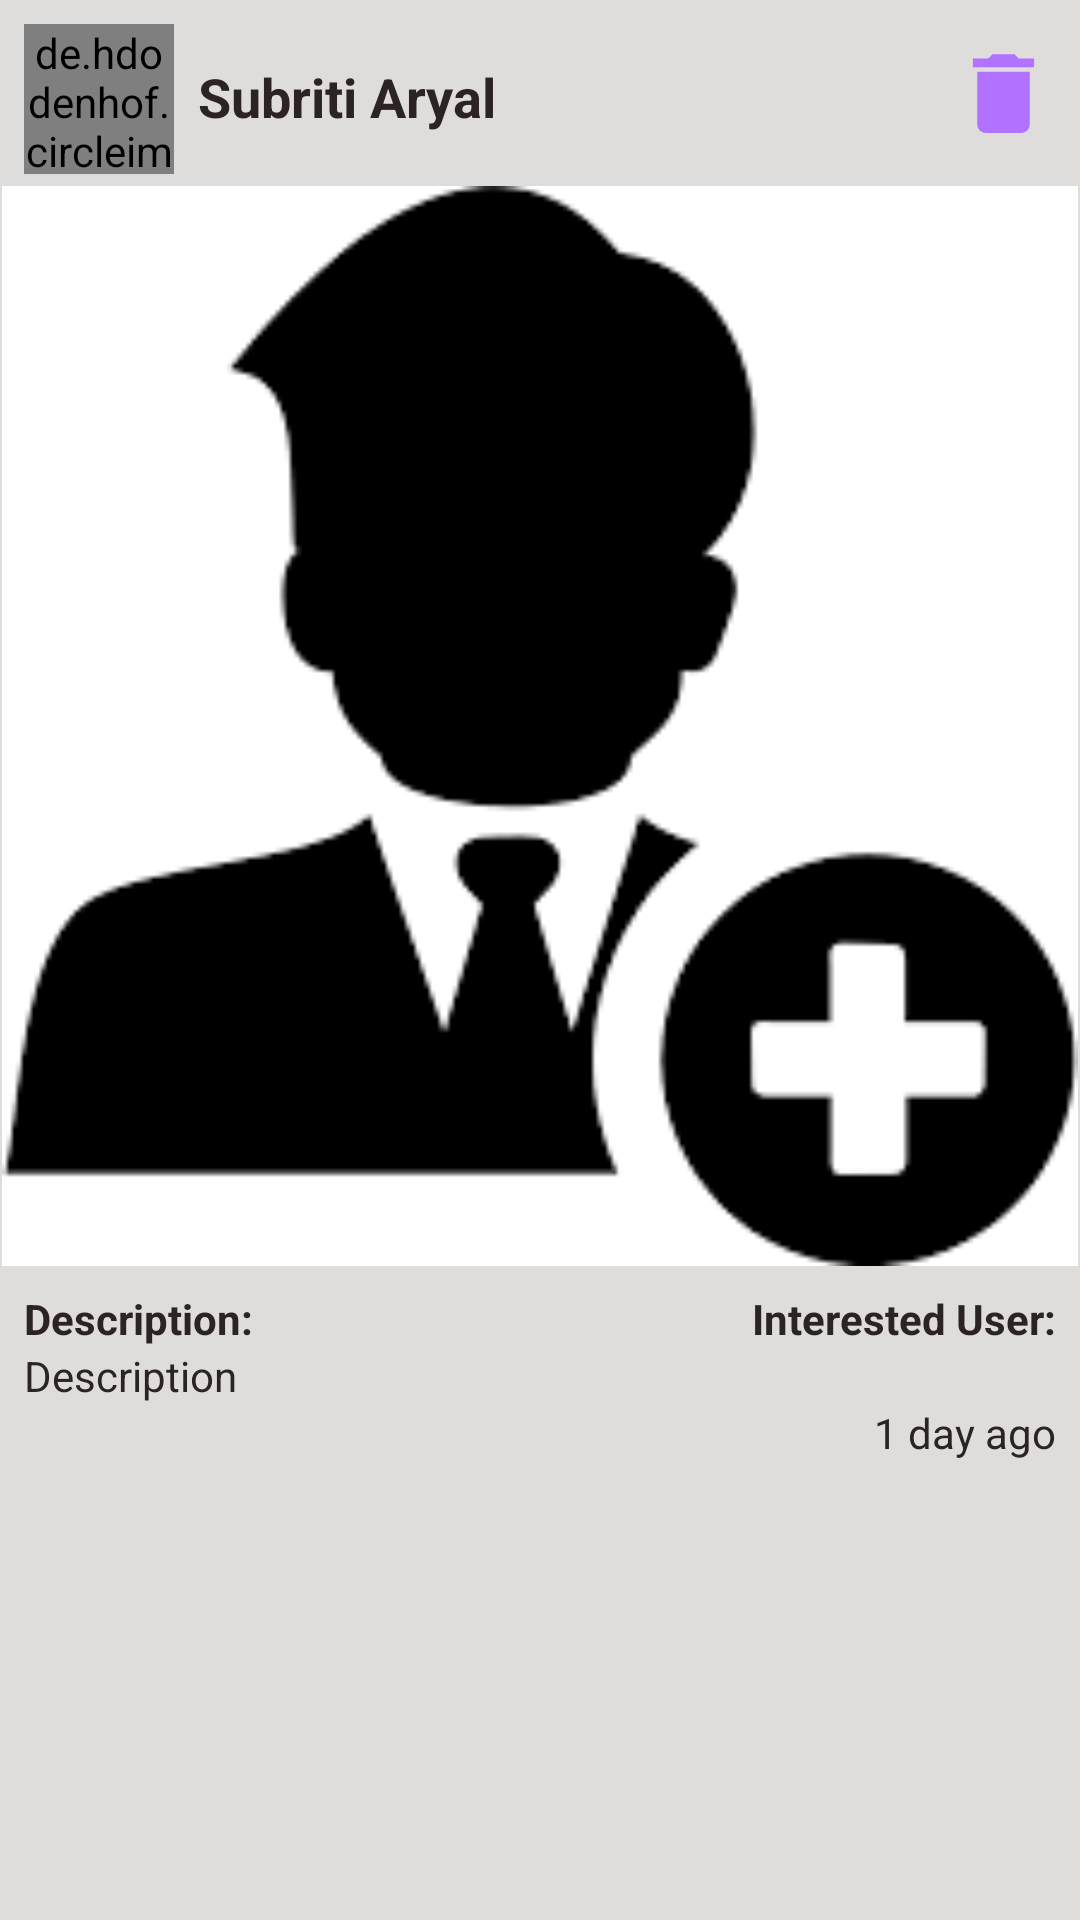

Named icons in this screenshot (1080px×1920px) and their centers, (x,y):
delete: (1003,93)
